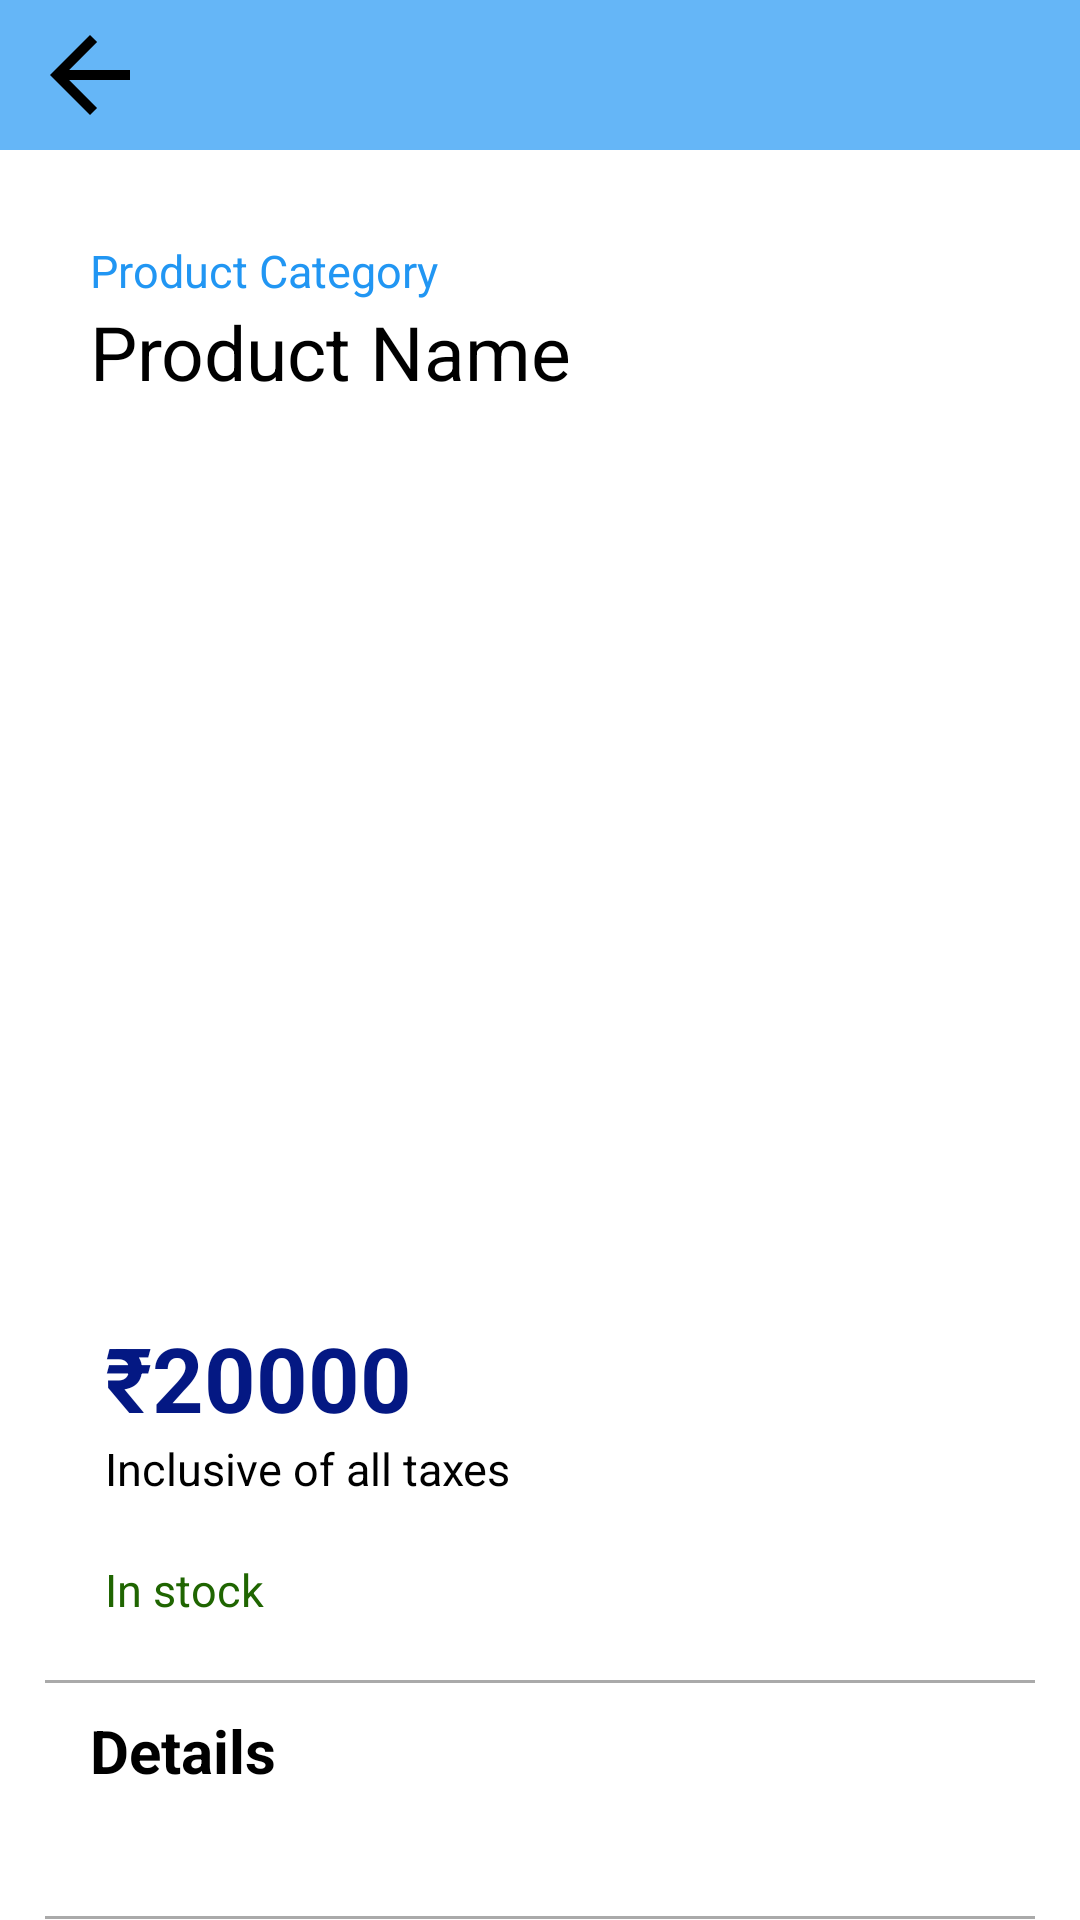

Screen size 1080*1920. Icon name, then its center in pixels as [x,y]:
back: [90,75]
